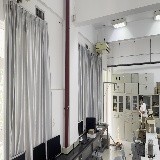fire: (115, 125, 121, 144)
